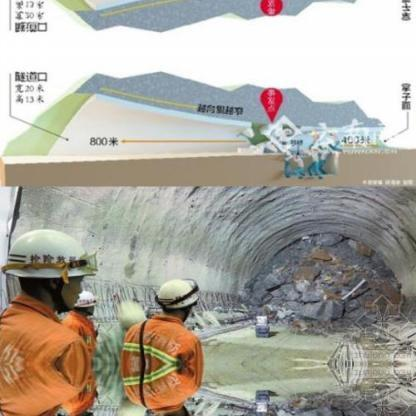helmet: (0, 223, 100, 293), (152, 272, 212, 319), (69, 287, 102, 314)
